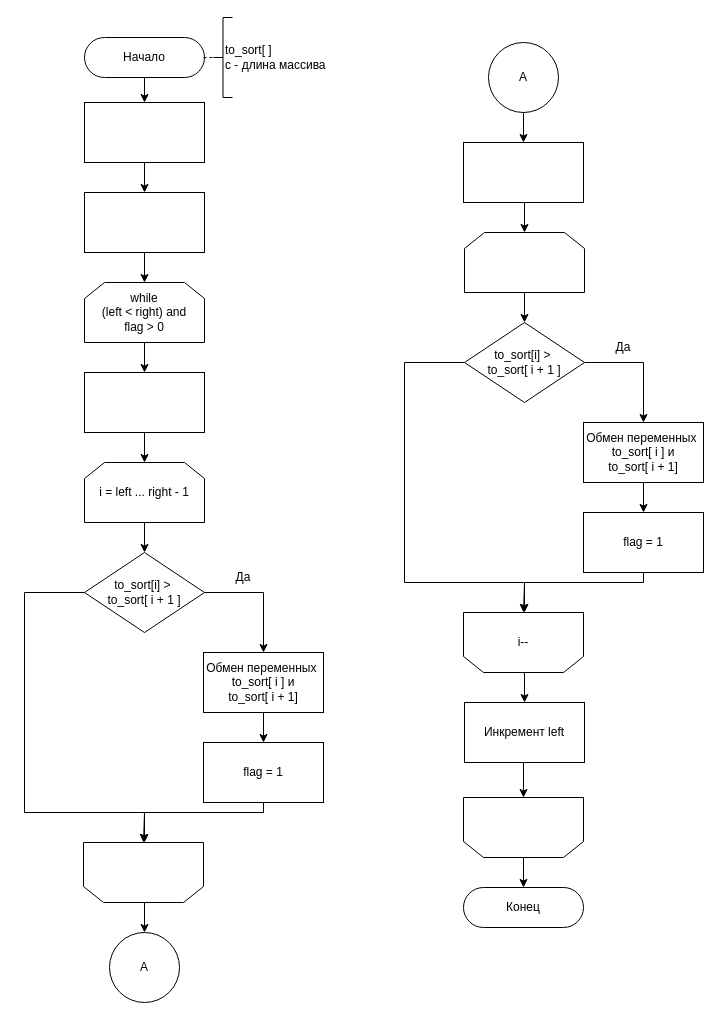
This 721x1020 diagram has some shape labels left out. The shapes that lost their labels are listed below. From the top down, each one's box as (x1, y1, x2, y2) in pixels, then its label:
(84, 102, 204, 162): Определить границы массива left, right
(462, 142, 584, 202): Декремент right
(84, 192, 204, 252): Определить флаг, буффер flag, buf
(464, 232, 584, 292): i = right ... left - 1
(84, 372, 204, 432): flag = 0
(462, 796, 584, 858): do
(82, 842, 204, 902): i++
